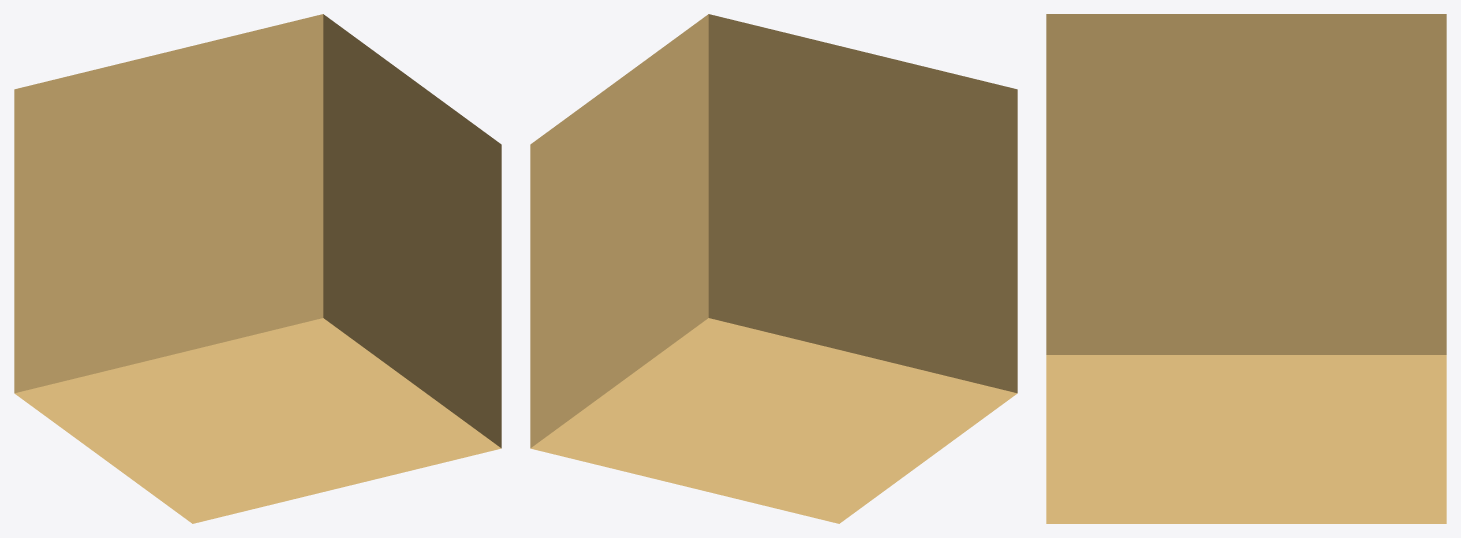
Rendered from decorative-lighting-kalash-court-013.glb.
3 views of the same model, side by side, from view 1: azimuth 30°, elevation 25°; view 2: azimuth 150°, elevation 25°; view 3: azimuth 270°, elevation 25° (orthographic). The views are drawn at different scales.
Visible parts, largest first — view 1: Kalash Court Decorative Lighting; view 2: Kalash Court Decorative Lighting; view 3: Kalash Court Decorative Lighting.
Part boxes in pixels (left/top/right/bottom): Kalash Court Decorative Lighting: left=14, top=14, right=501, bottom=523; Kalash Court Decorative Lighting: left=530, top=14, right=1017, bottom=523; Kalash Court Decorative Lighting: left=1046, top=14, right=1446, bottom=523.
Size of the model in its own units: 1 by 0.94 by 1.
